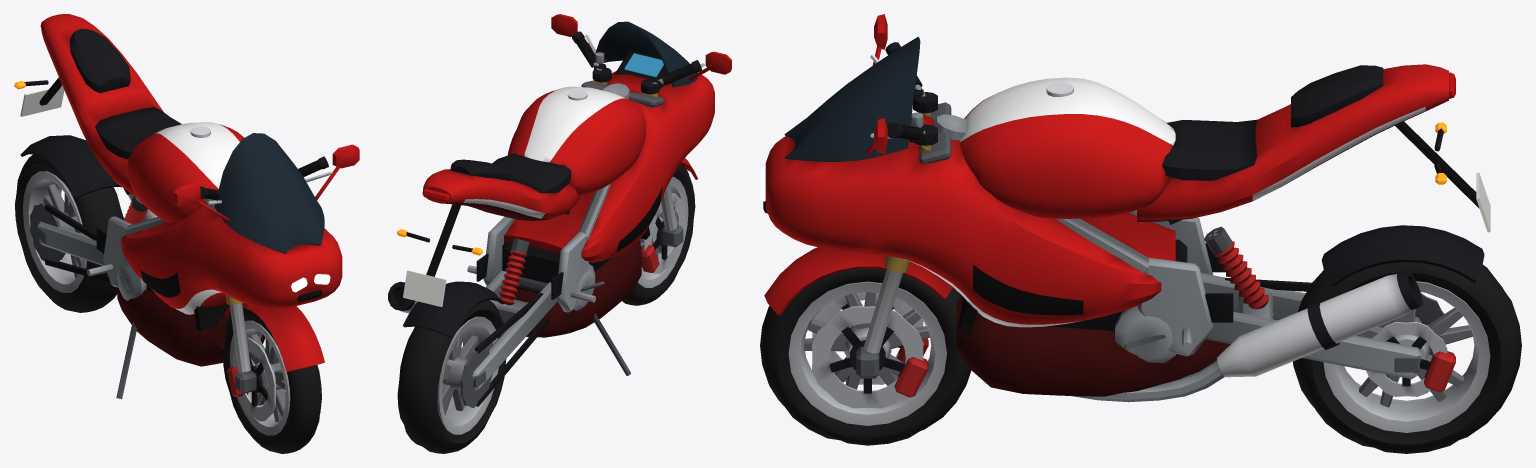
Rendered from sport.glb.
3 views of the same model, side by side, from view 1: azimuth 30°, elevation 25°; view 2: azimuth 150°, elevation 25°; view 3: azimuth 270°, elevation 25° (orthographic). The views are drawn at different scales.
Parts seen in each view (by area): view 1: body, wheel_rear, wheel_front, fork_left, disc_front, handlebar; view 2: body, wheel_rear, wheel_front, handlebar, fork_left, disc_front; view 3: body, wheel_rear, wheel_front, disc_front, fork_right, disc_rear, handlebar.
Boxes of the visible parts, x1=… form: body: x1=14, y1=14, x2=359, y2=399; wheel_rear: x1=15, y1=154, x2=123, y2=312; wheel_front: x1=223, y1=308, x2=321, y2=453; fork_left: x1=225, y1=295, x2=256, y2=397; disc_front: x1=233, y1=337, x2=285, y2=421; handlebar: x1=200, y1=156, x2=332, y2=204; body: x1=388, y1=14, x2=731, y2=406; wheel_rear: x1=397, y1=300, x2=506, y2=453; wheel_front: x1=622, y1=164, x2=695, y2=305; handlebar: x1=572, y1=31, x2=704, y2=94; fork_left: x1=641, y1=93, x2=683, y2=272; disc_front: x1=643, y1=193, x2=685, y2=273; body: x1=763, y1=14, x2=1490, y2=402; wheel_rear: x1=1293, y1=262, x2=1521, y2=453; wheel_front: x1=760, y1=268, x2=971, y2=445; disc_front: x1=812, y1=292, x2=923, y2=408; fork_right: x1=856, y1=145, x2=930, y2=397; disc_rear: x1=1366, y1=322, x2=1447, y2=396; handlebar: x1=870, y1=42, x2=937, y2=145.
Size of the model in its own units: 0.7443 by 1.18 by 1.98.
